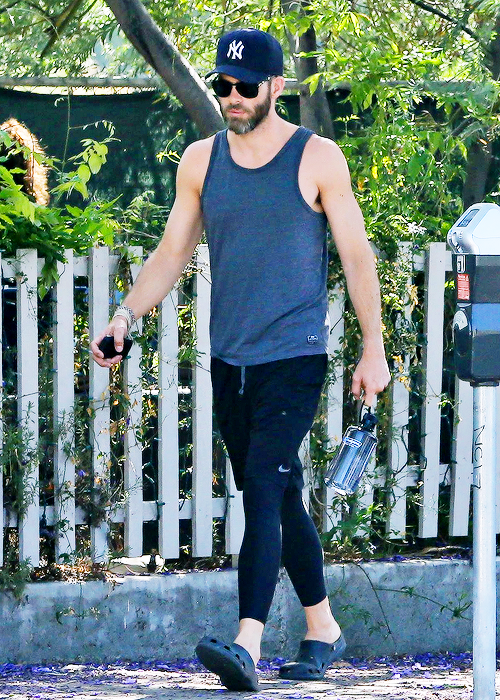Person: (89, 28, 392, 691)
